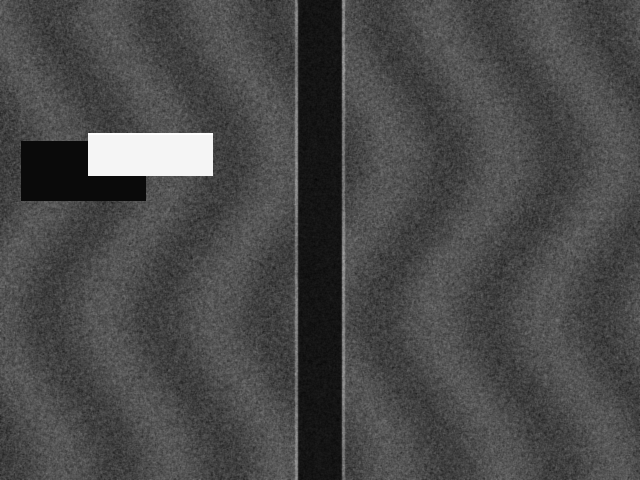Metal Debris: (88, 133, 212, 175)
